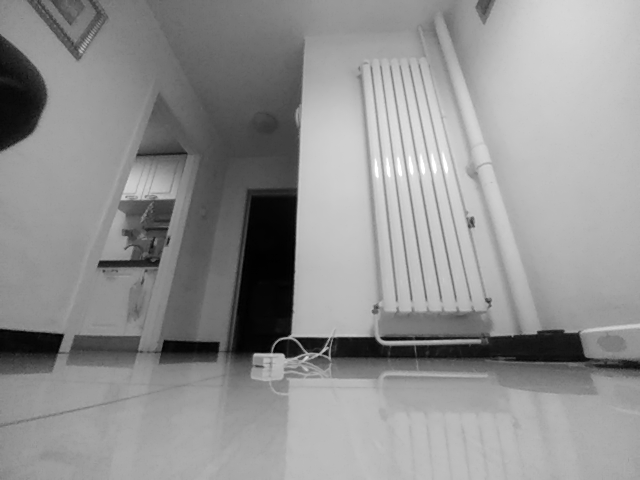wire: (269, 327, 335, 376)
